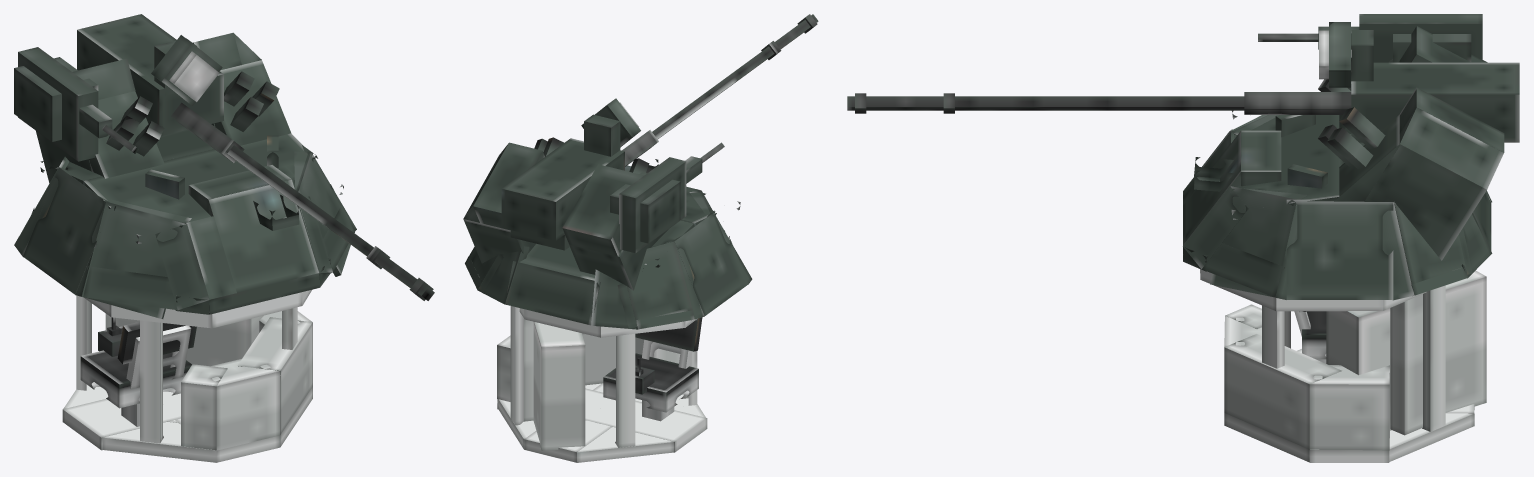
Rendered from bmp1am_turret.obj.
3 views of the same model, side by side, from view 1: azimuth 30°, elevation 25°; view 2: azimuth 150°, elevation 25°; view 3: azimuth 270°, elevation 25° (orthographic). The views are drawn at different scales.
Visible parts, largest first — view 1: turret, gun; view 2: turret, gun; view 3: turret, gun.
Boxes of the visible parts, x1,y1,x2,y2 form: turret: (14, 32, 356, 462); gun: (14, 14, 434, 300); turret: (463, 137, 752, 462); gun: (501, 14, 818, 253); turret: (1183, 26, 1504, 462); gun: (847, 14, 1519, 142).
Bounding box in the file's own units: 1.81 × 2.34 × 3.71.
